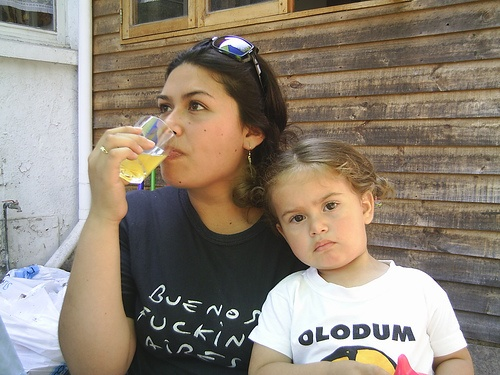head: (157, 49, 287, 189), (263, 144, 385, 273)
person: (45, 35, 299, 372), (236, 130, 483, 375)
